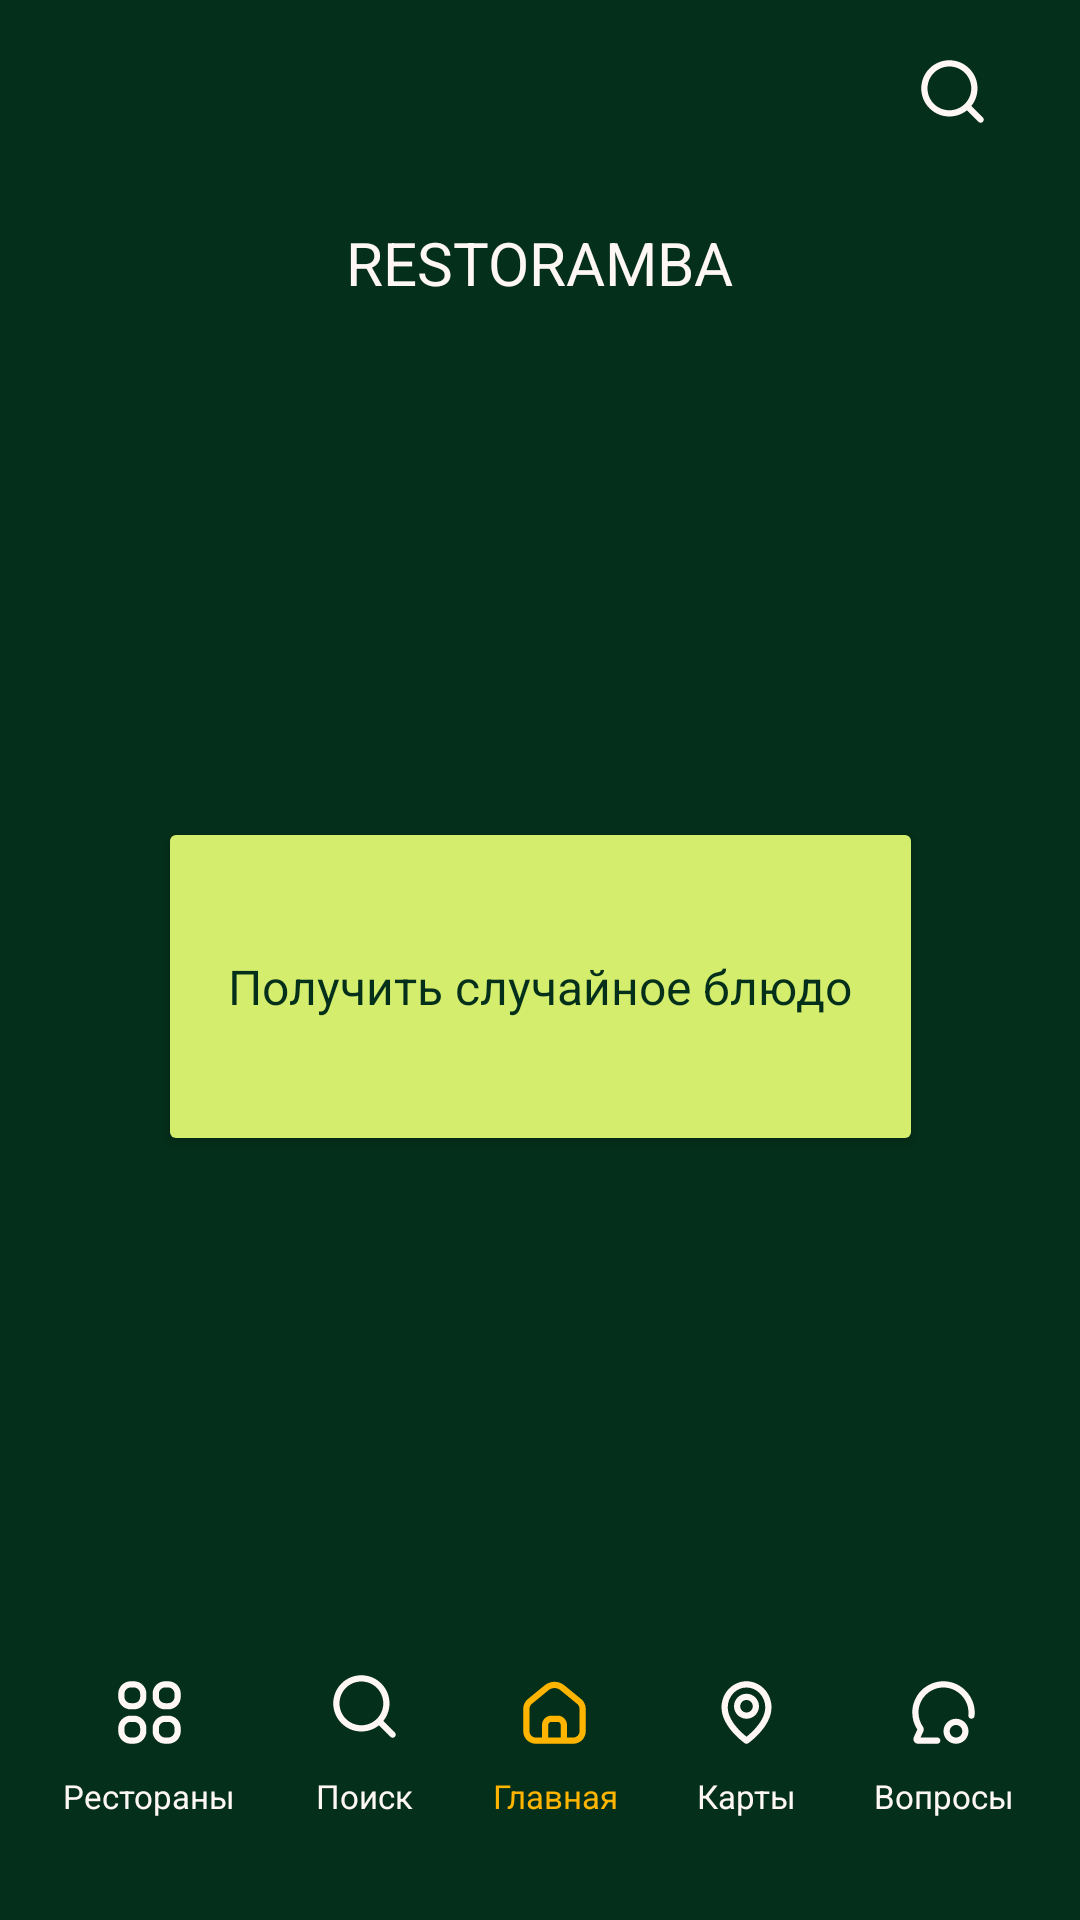

Point at icon controls on the screen. Image size 1080 x 1920, points as [x,y].
search: [952,91]
